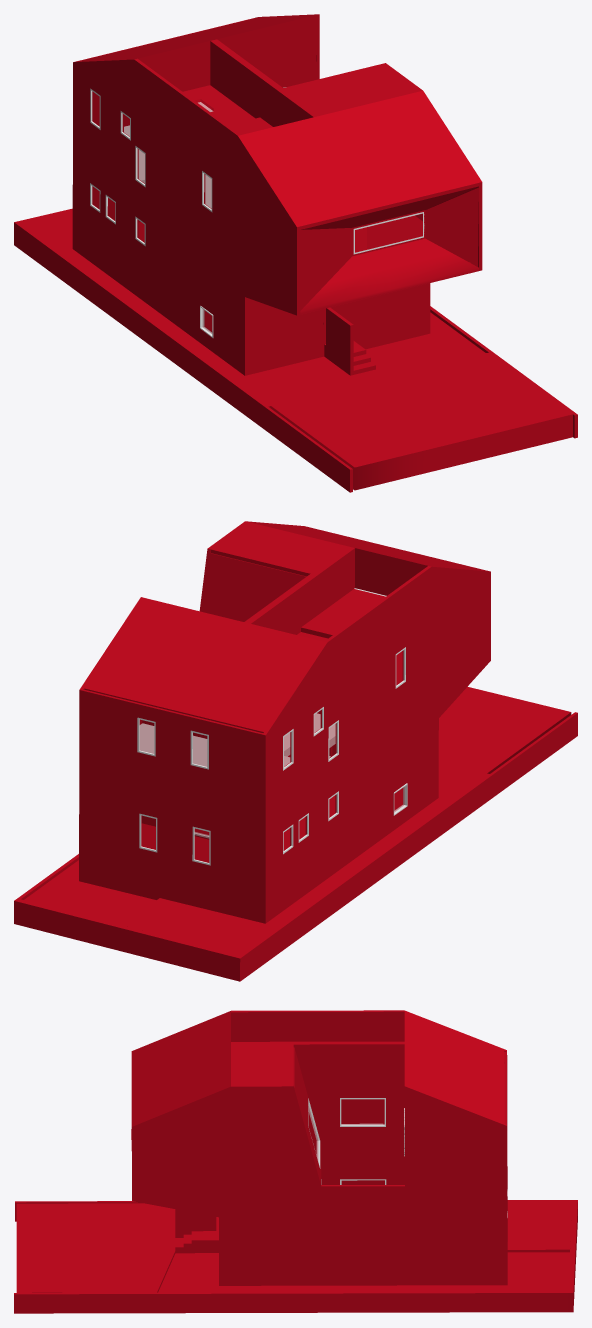
File: asset.glb
3 views of the same model, one above another, from view 1: azimuth 30°, elevation 25°; view 2: azimuth 150°, elevation 25°; view 3: azimuth 270°, elevation 25° (orthographic). The views are drawn at different scales.
Visible parts, largest first — view 1: 3D_FACADE_BLACK, 3D_FIRST FLOOR, 3D_FACADE_REFLECTIVE, 3D_SURROUNDING CONTEXT, 3D_WALL, 3D_FLOOR, 3D_WINDOW FRAMES, 3D_TURF, 3D_FACADE_REFLECTIVE.001, 3d_Glass, Windows frames, 3D_FACADE_WHITE; view 2: 3D_FACADE_BLACK, 3D_FIRST FLOOR, 3D_SURROUNDING CONTEXT, 3D_FACADE_WHITE, 3D_TURF, 3D_FLOOR, 3D_WINDOW FRAMES, 3d_Glass, Windows frames, 3D_WALL; view 3: 3D_FACADE_BLACK, 3D_FIRST FLOOR, 3D_SURROUNDING CONTEXT, 3D_FACADE_WHITE, 3D_TURF, 3d_Glass, Windows frames.
Boxes of the visible parts, <box> form: 3D_FACADE_BLACK: <box>72,14,482,363</box>; 3D_FIRST FLOOR: <box>31,212,572,490</box>; 3D_FACADE_REFLECTIVE: <box>300,186,478,314</box>; 3D_SURROUNDING CONTEXT: <box>14,208,577,492</box>; 3D_WALL: <box>141,18,316,91</box>; 3D_FLOOR: <box>124,85,470,262</box>; 3D_WINDOW FRAMES: <box>210,44,309,126</box>; 3D_TURF: <box>366,312,485,369</box>; 3D_FACADE_REFLECTIVE.001: <box>425,187,478,266</box>; 3d_Glass: <box>92,92,422,251</box>; Windows frames: <box>90,87,425,337</box>; 3D_FACADE_WHITE: <box>210,39,282,91</box>; 3D_FACADE_BLACK: <box>79,521,490,911</box>; 3D_FIRST FLOOR: <box>79,686,571,950</box>; 3D_SURROUNDING CONTEXT: <box>14,712,577,981</box>; 3D_FACADE_WHITE: <box>203,553,317,756</box>; 3D_TURF: <box>24,860,156,924</box>; 3D_FLOOR: <box>139,588,386,766</box>; 3D_WINDOW FRAMES: <box>254,552,354,634</box>; 3d_Glass: <box>140,650,403,862</box>; Windows frames: <box>137,647,407,865</box>; 3D_WALL: <box>142,551,424,839</box>; 3D_FACADE_BLACK: <box>131,1010,507,1272</box>; 3D_FIRST FLOOR: <box>16,1201,571,1292</box>; 3D_SURROUNDING CONTEXT: <box>14,1200,577,1313</box>; 3D_FACADE_WHITE: <box>293,1041,404,1184</box>; 3D_TURF: <box>158,1252,569,1292</box>; 3d_Glass: <box>309,1099,384,1184</box>; Windows frames: <box>308,1098,507,1217</box>.
Size of the model in its own units: 39.94 by 43.46 by 102.
